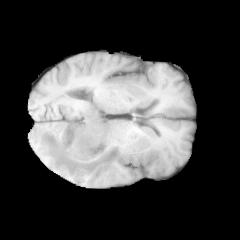glioma: (39, 104, 119, 177)
